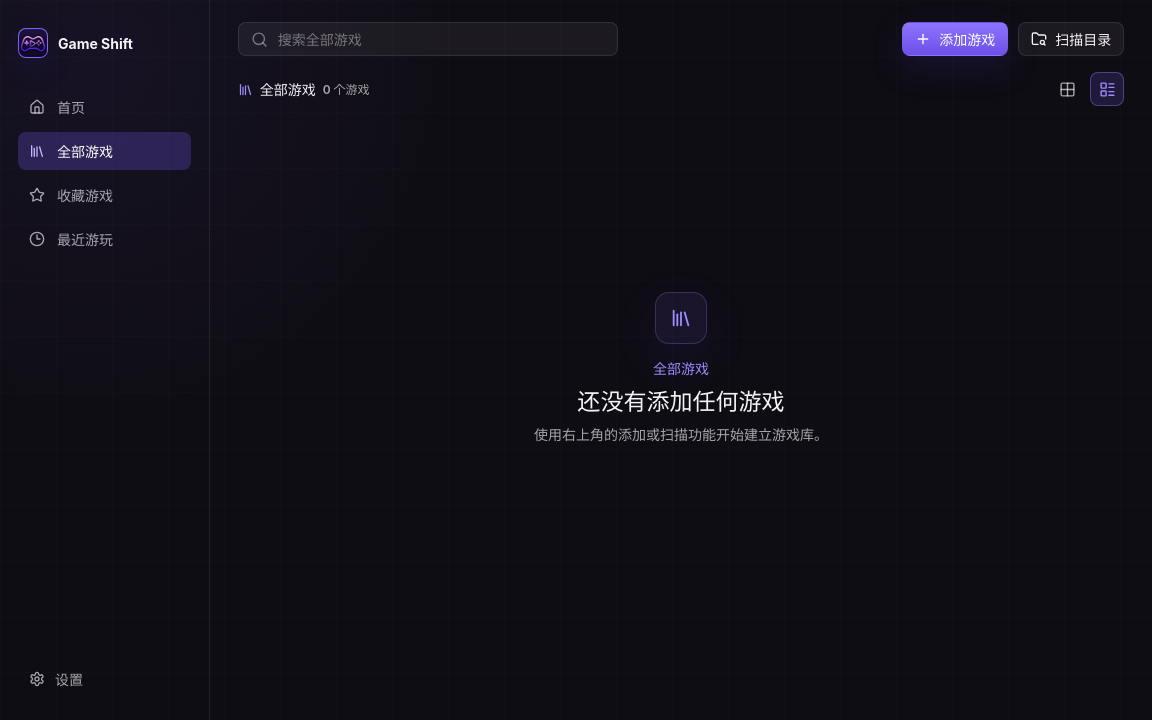
Test case: GameLibraryLayout › keeps the scan dialog open and show an error when scanning fails
Click the button "扫描目录" at (1071, 39), box [1018,22,1124,56]
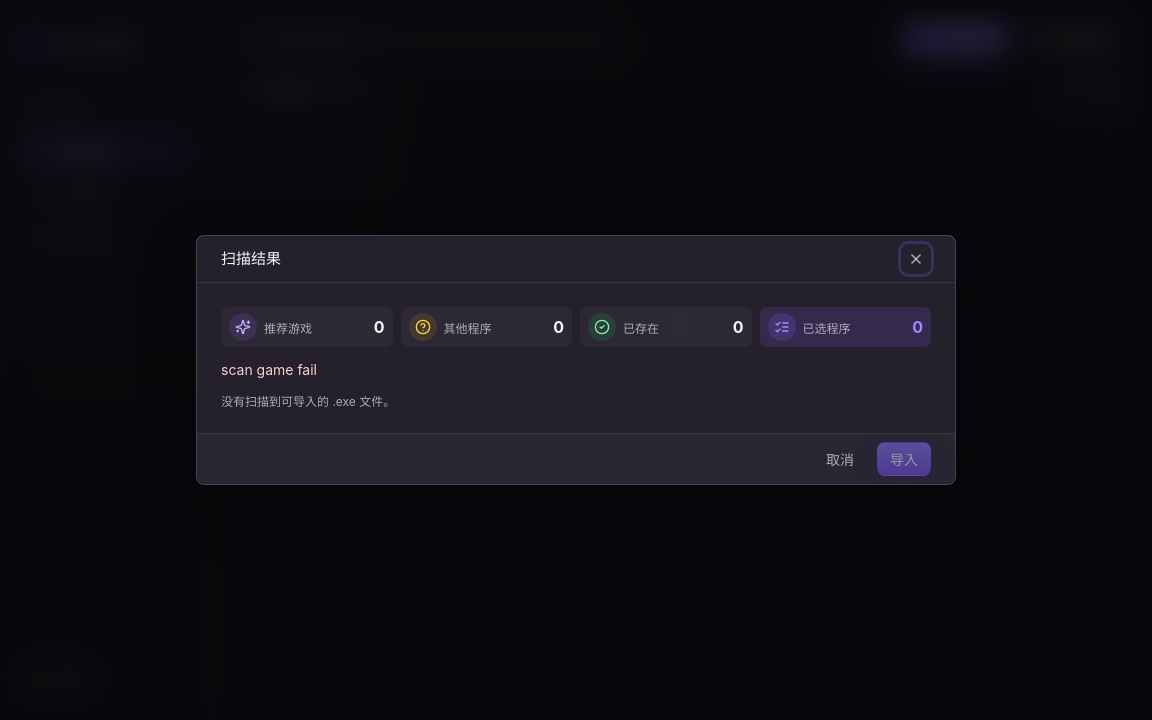
Expected: the text "scan game fail" is shown, [221,361,317,378]
